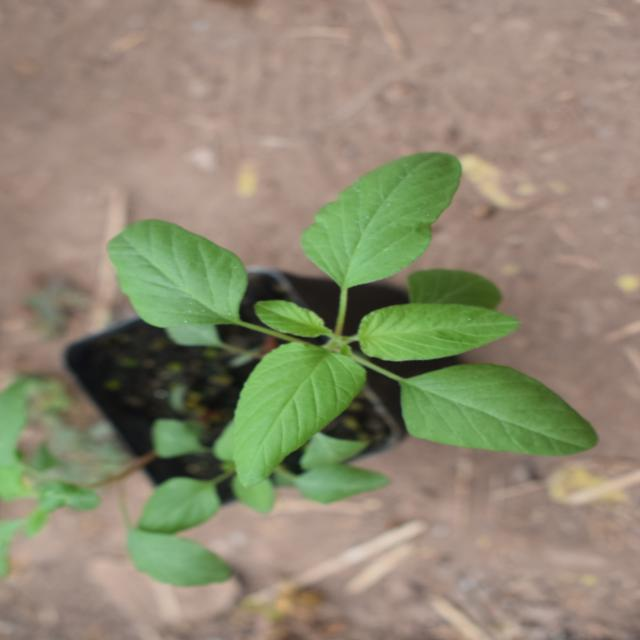pigweed: (151, 153, 507, 580)
